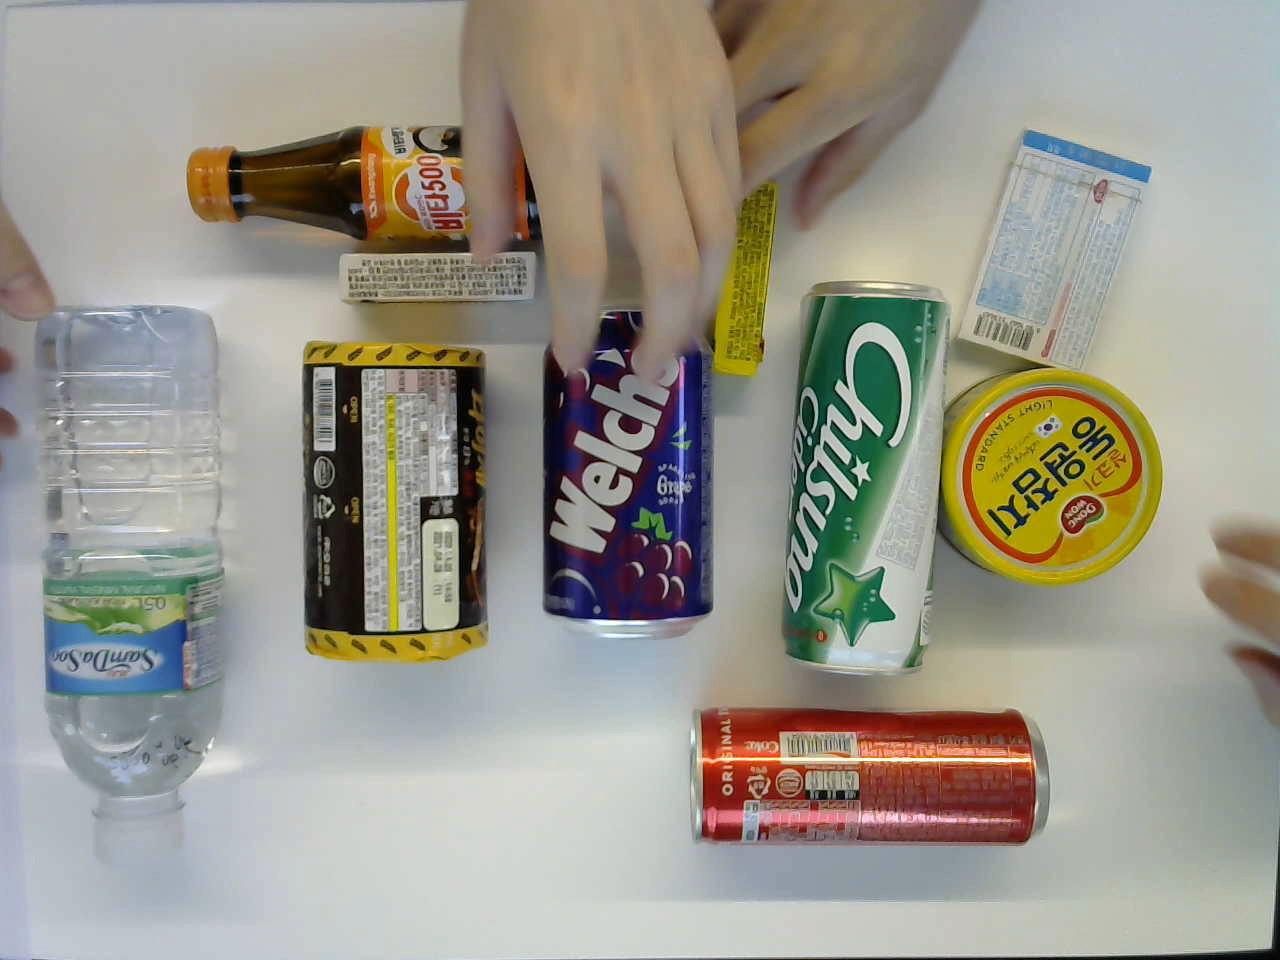ID_gum: (951, 124, 1156, 369)
cidar: (770, 280, 958, 671)
coke: (682, 698, 1057, 845)
diget_choco: (297, 338, 498, 663)
samdasu: (16, 303, 225, 890)
tuna: (941, 360, 1171, 604)
